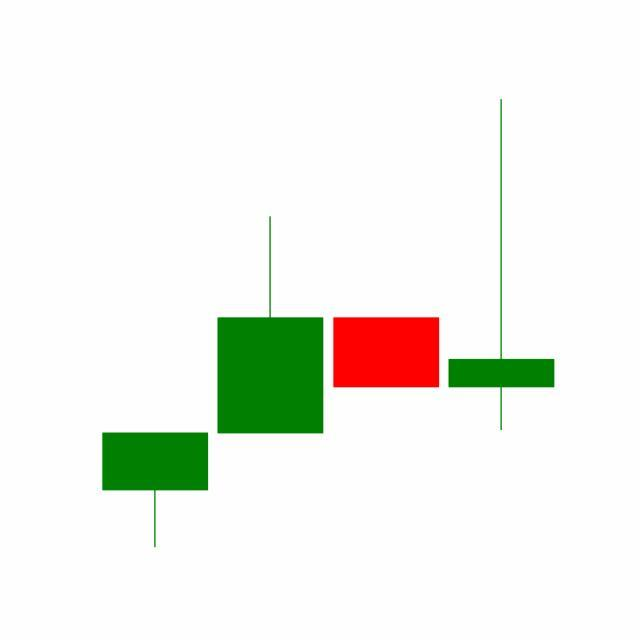Marubozu: (329, 317, 445, 389)
